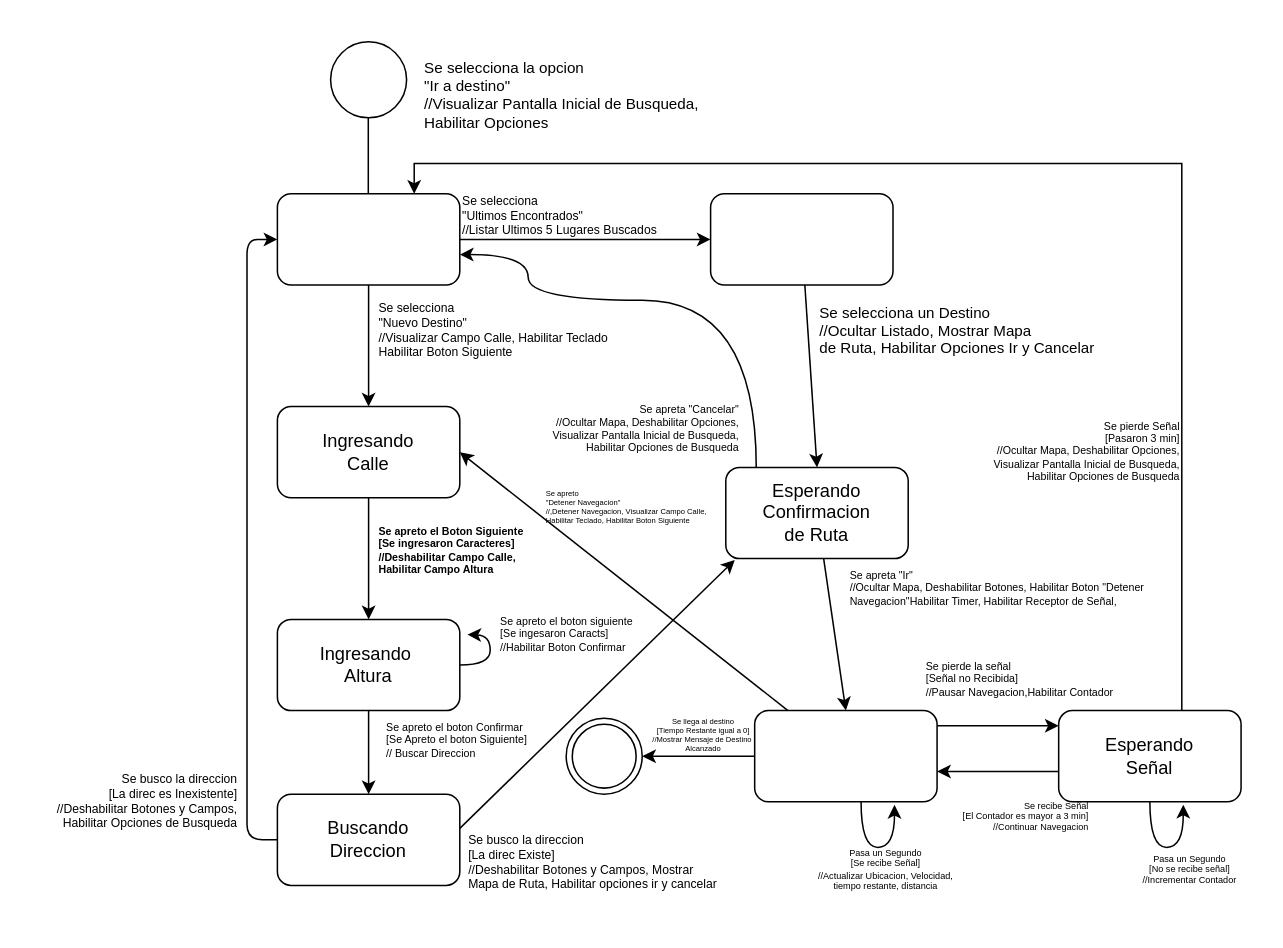
The diagram is 1283 pixels wide and 948 high, and some of its shapes have lost their labels. The shapes that lost their labels are listed below. From the top down, each one's centre as x and y in pixels, then its label:
At pixel 368 238: "Esperando Seleccion de Busqueda".
At pixel 801 238: "Esperando Seleccion de Destino".
At pixel 845 755: "Navegando".
